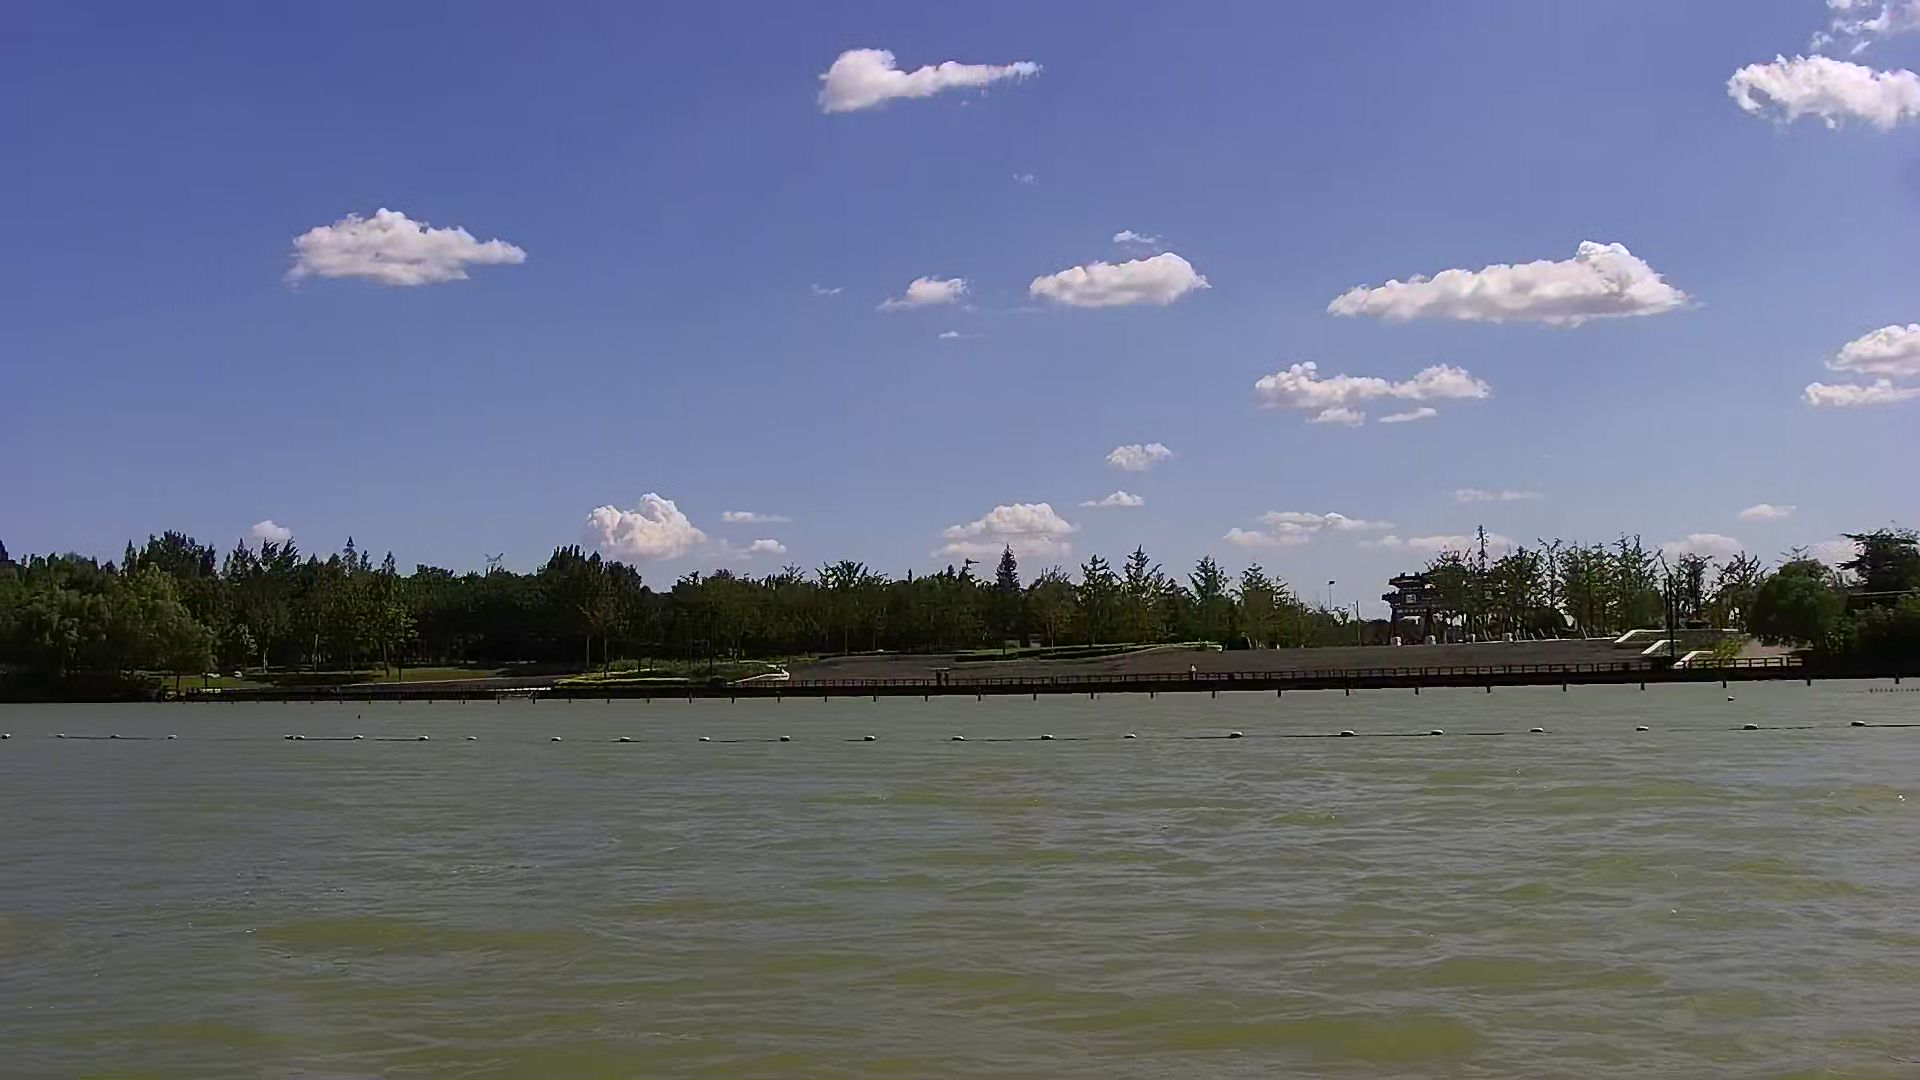ball: (1737, 709, 1768, 745), (855, 725, 887, 749), (1842, 704, 1866, 732), (771, 727, 798, 749), (1337, 725, 1364, 746), (1039, 729, 1062, 749), (1226, 731, 1247, 749), (1429, 725, 1448, 744)
harbor: (754, 649, 1815, 694)
